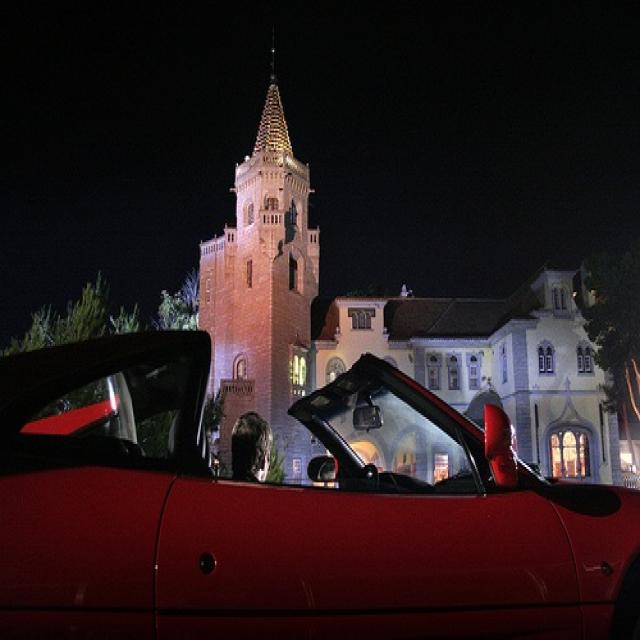car: (2, 334, 638, 634)
